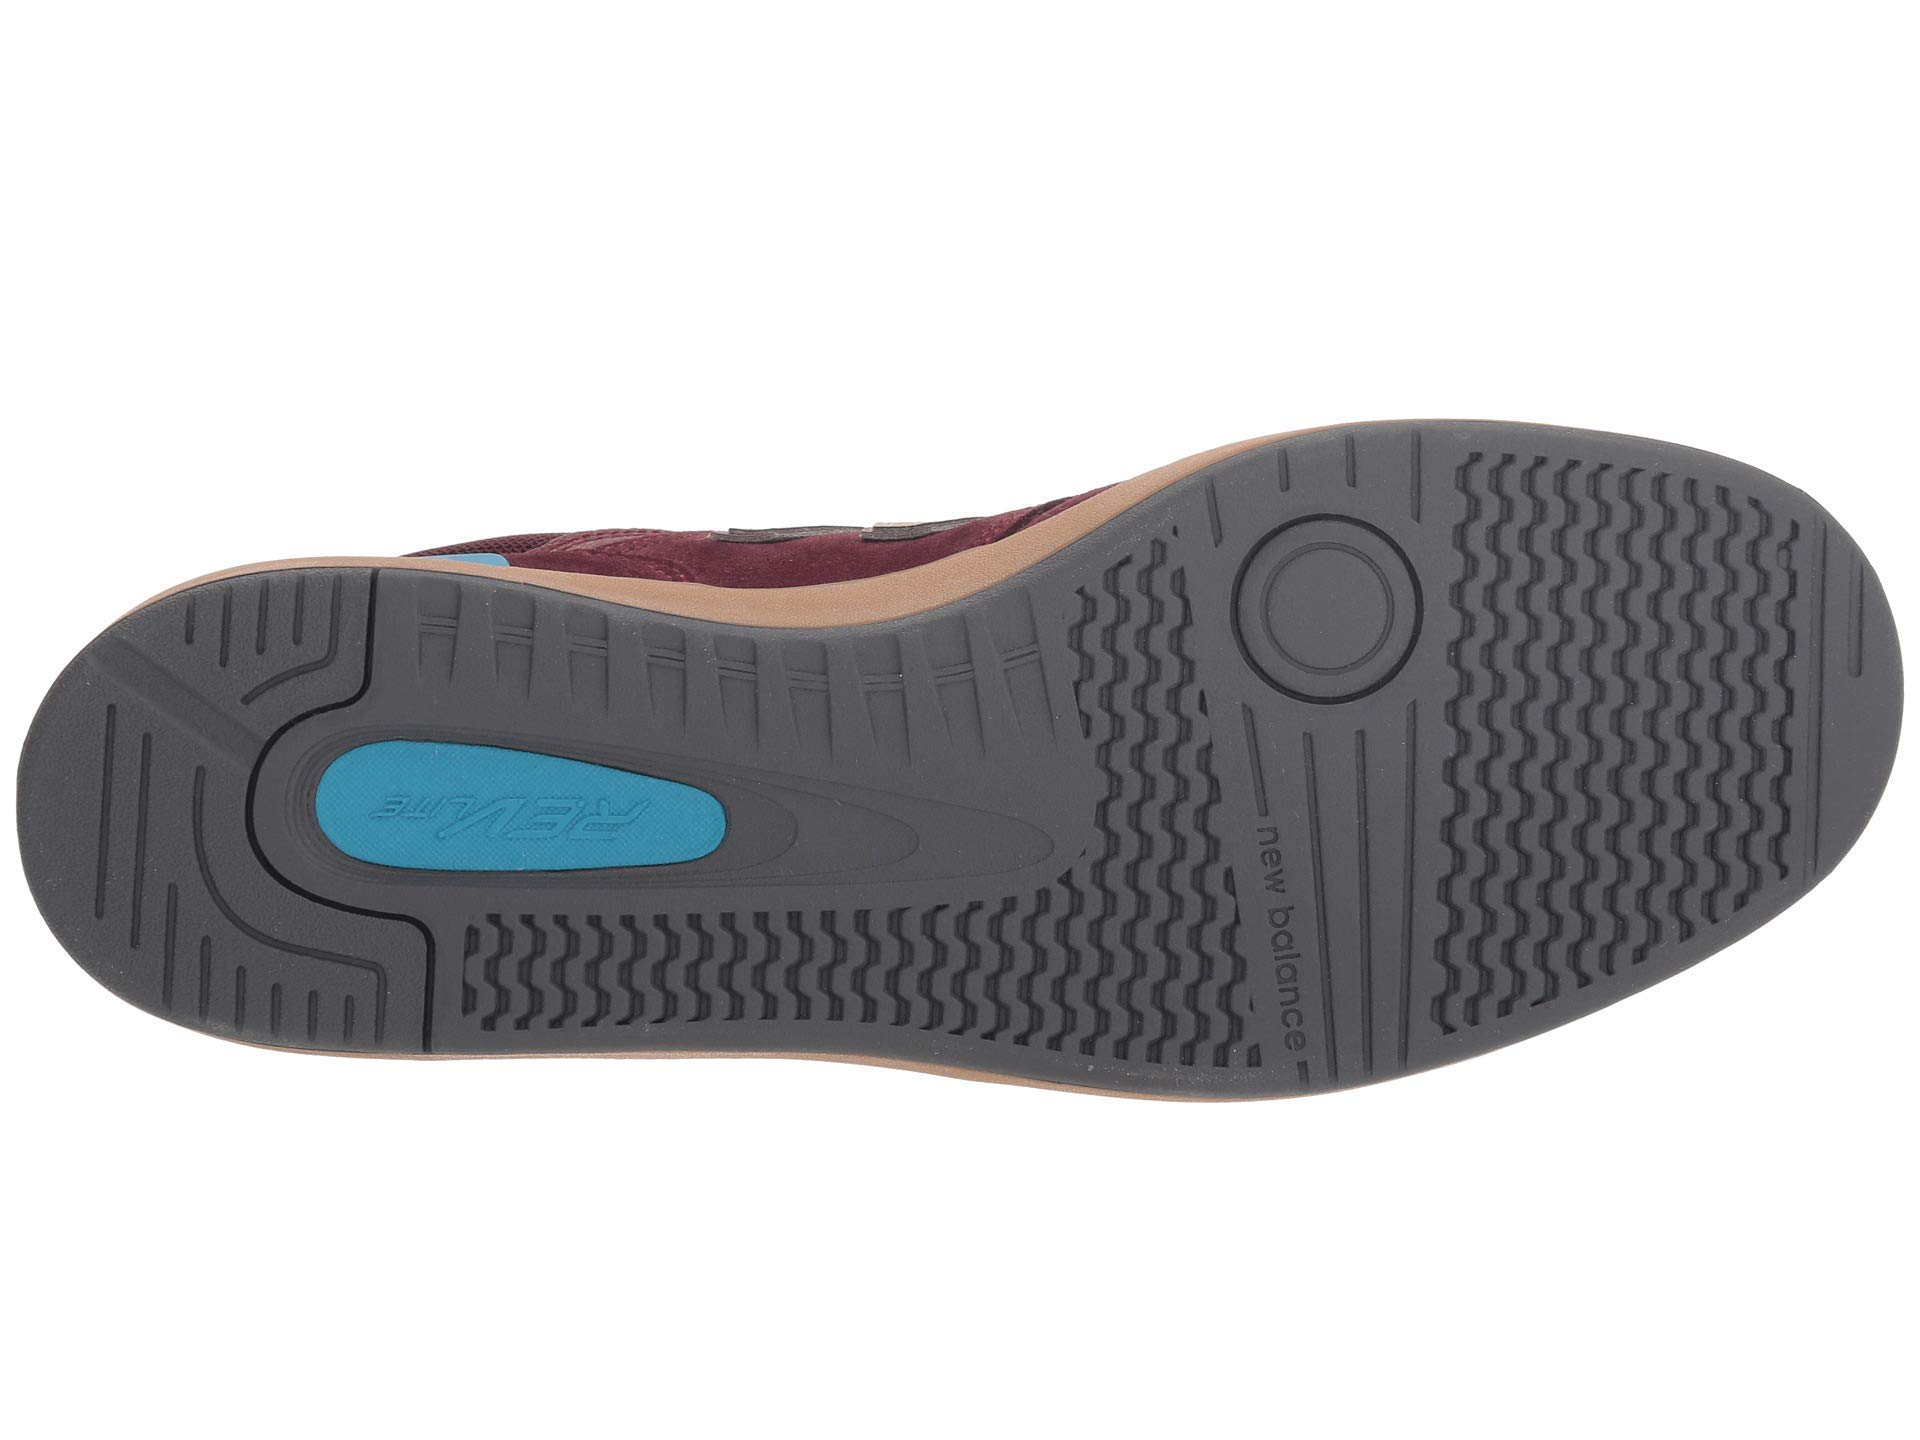chevron: (1157, 790, 1404, 1063), (1509, 644, 1708, 929), (963, 566, 1154, 705)
circle: (1209, 511, 1439, 708)
line: (1157, 790, 1404, 1063)
quad: (963, 566, 1154, 705)
text: (1157, 790, 1404, 1063), (361, 768, 652, 859)
